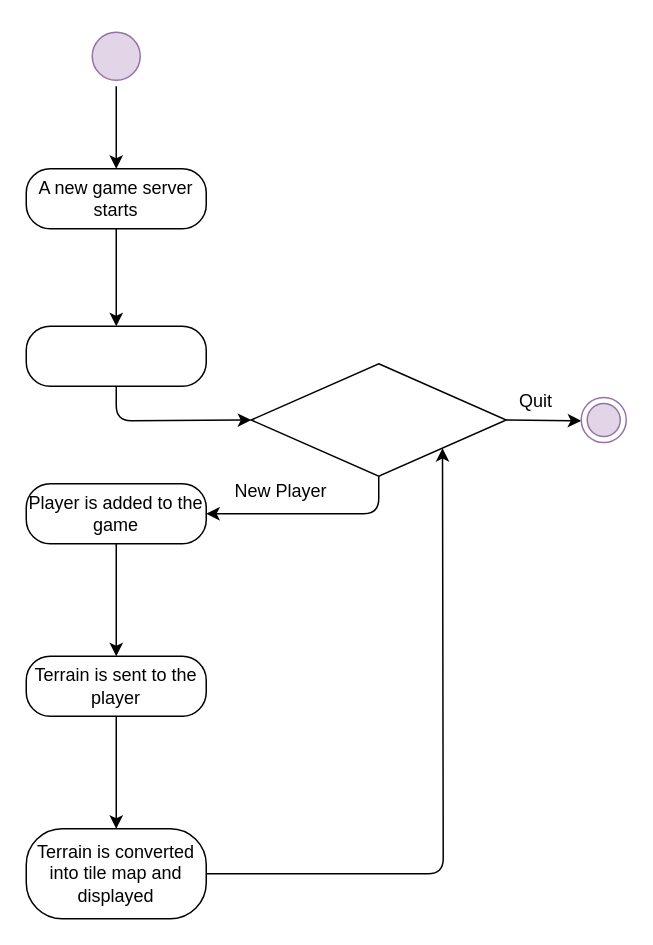
This 653x945 diagram has some shape labels left out. Here are the shapes that lost their labels. From the top down, the centre of each, then its label:
point (115, 355): Random terrain is genertaed
point (378, 419): Action performed on game server
